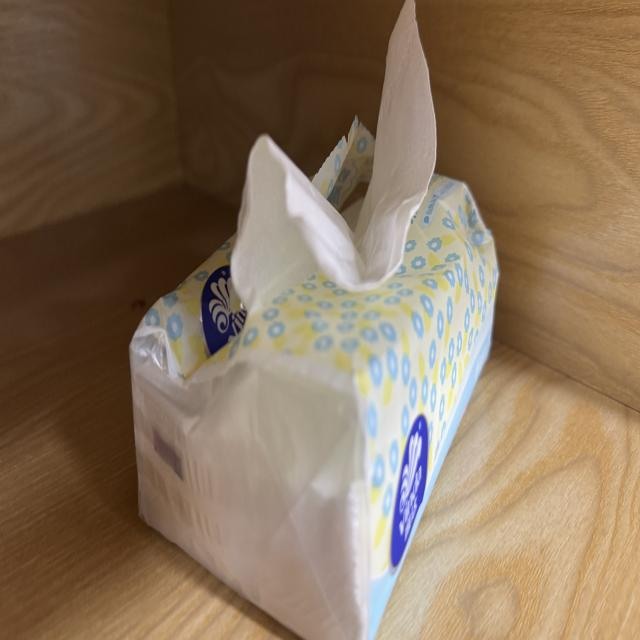tissue: (131, 0, 498, 639), (131, 176, 498, 639), (232, 0, 435, 310)
